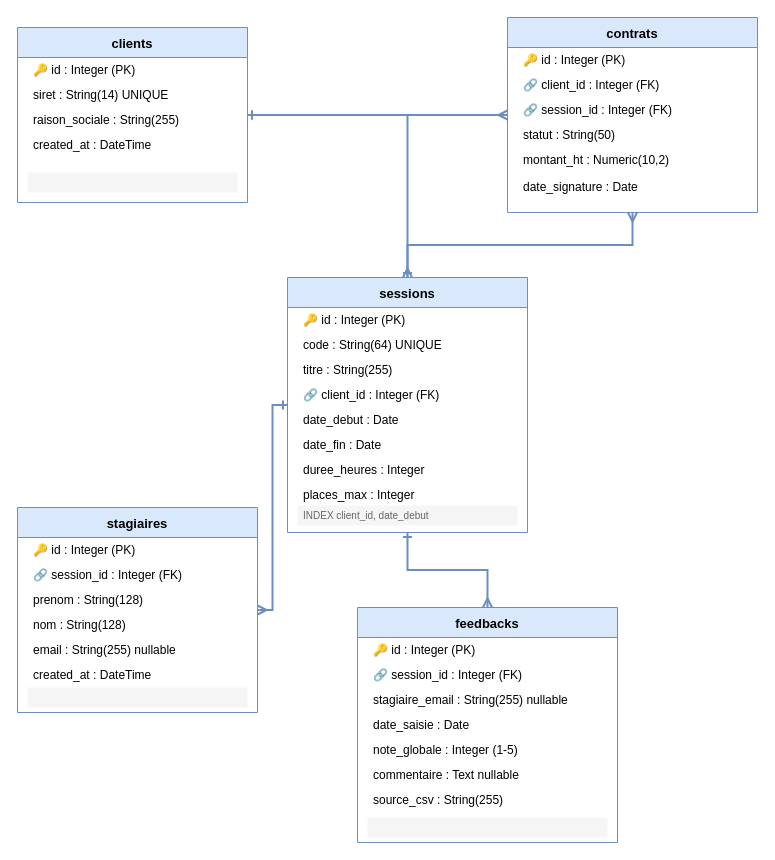
This 775x860 diagram has some shape labels left out. Each missing label, with the centre of its shape:
"INDEX raison_sociale" goes at point (132, 182).
"INDEX session_id, email" goes at point (137, 697).
"UNIQUE (session_id, stagiaire_email, date_saisie)" goes at point (487, 827).
